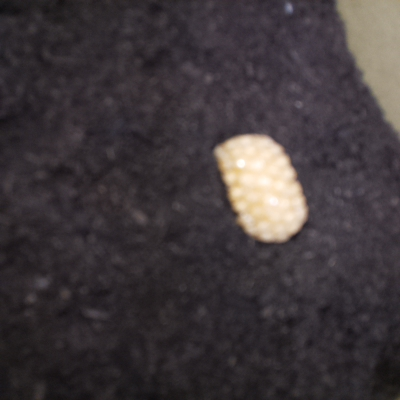eggs: (208, 132, 314, 244)
